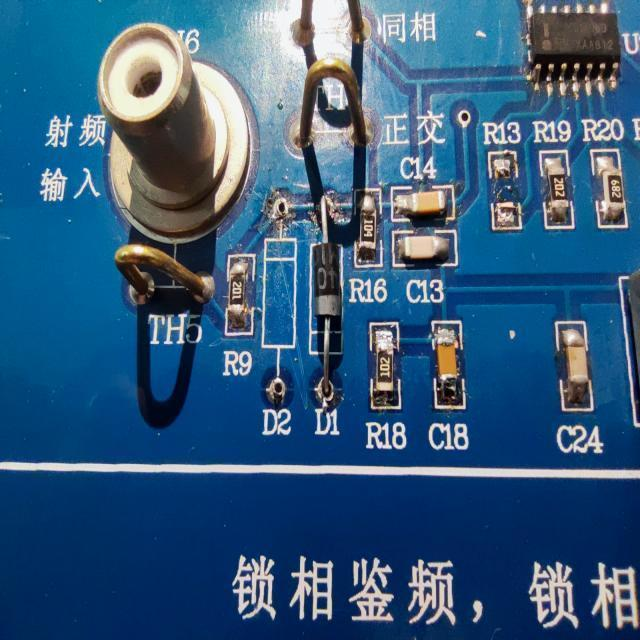Missing component: (258, 187, 302, 408), (482, 115, 532, 240)
